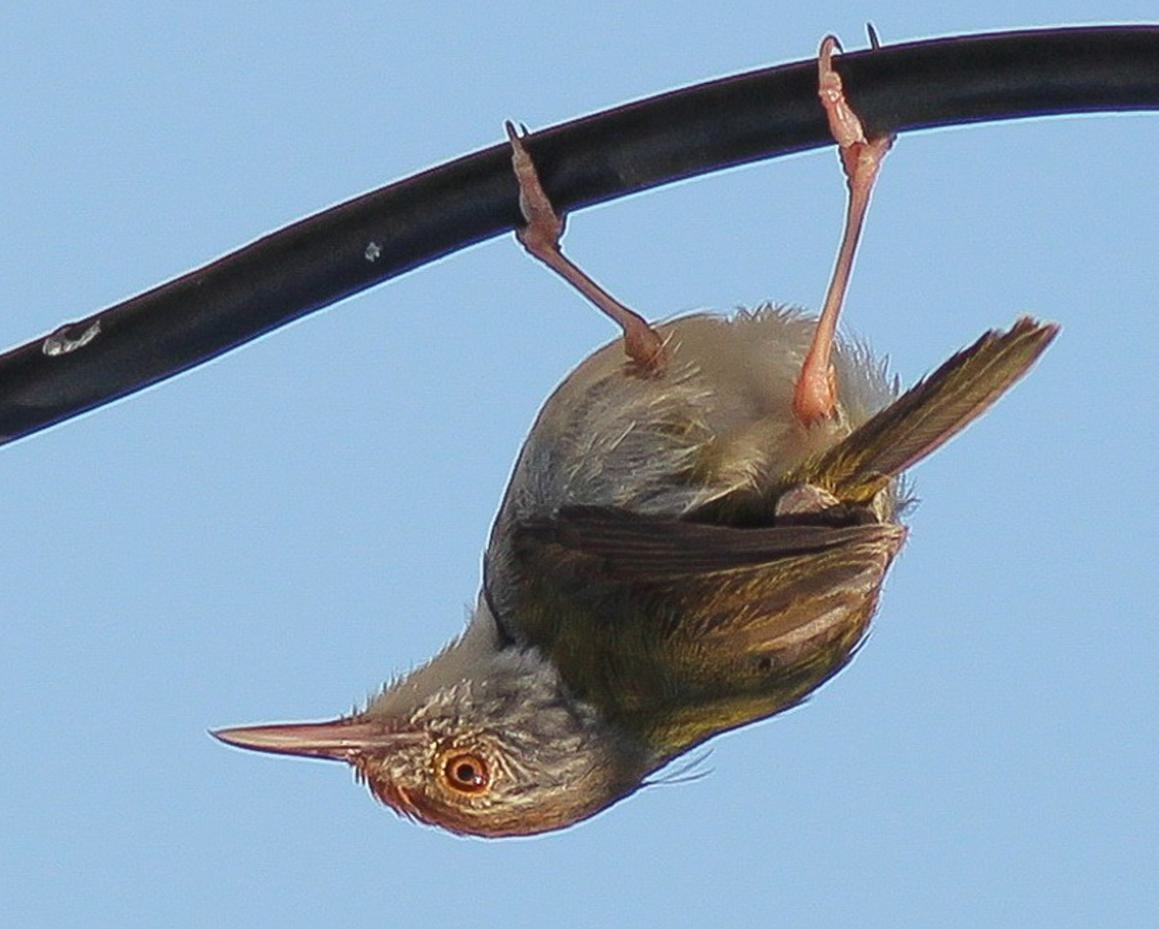tailorbird: (233, 69, 1019, 872)
